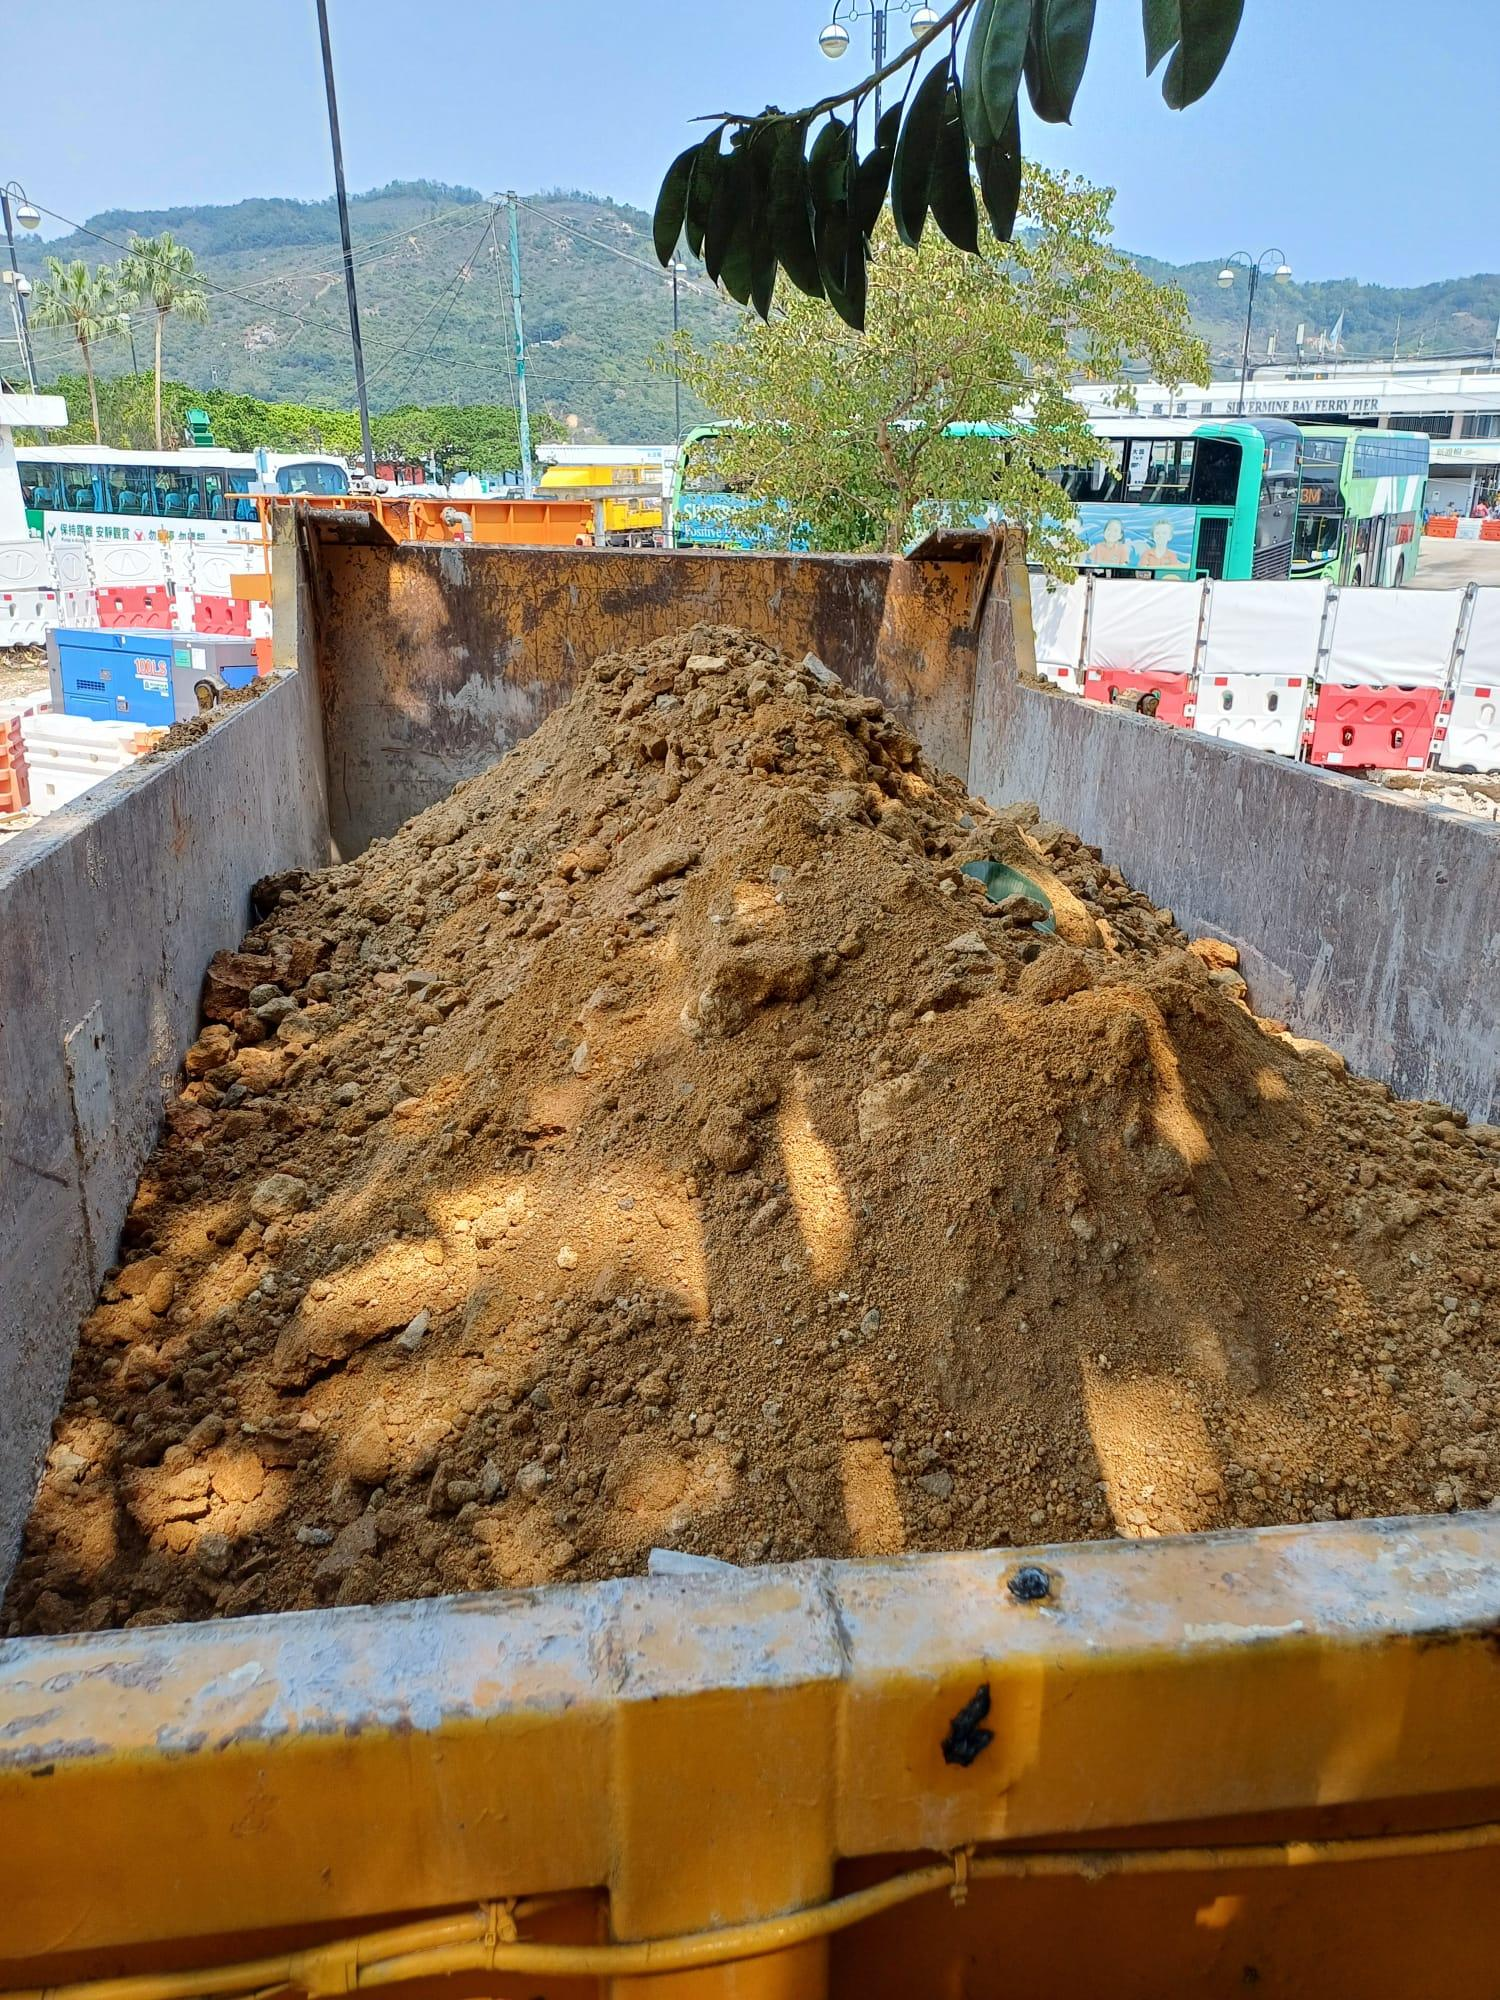wet: (33, 633, 1487, 1627)
